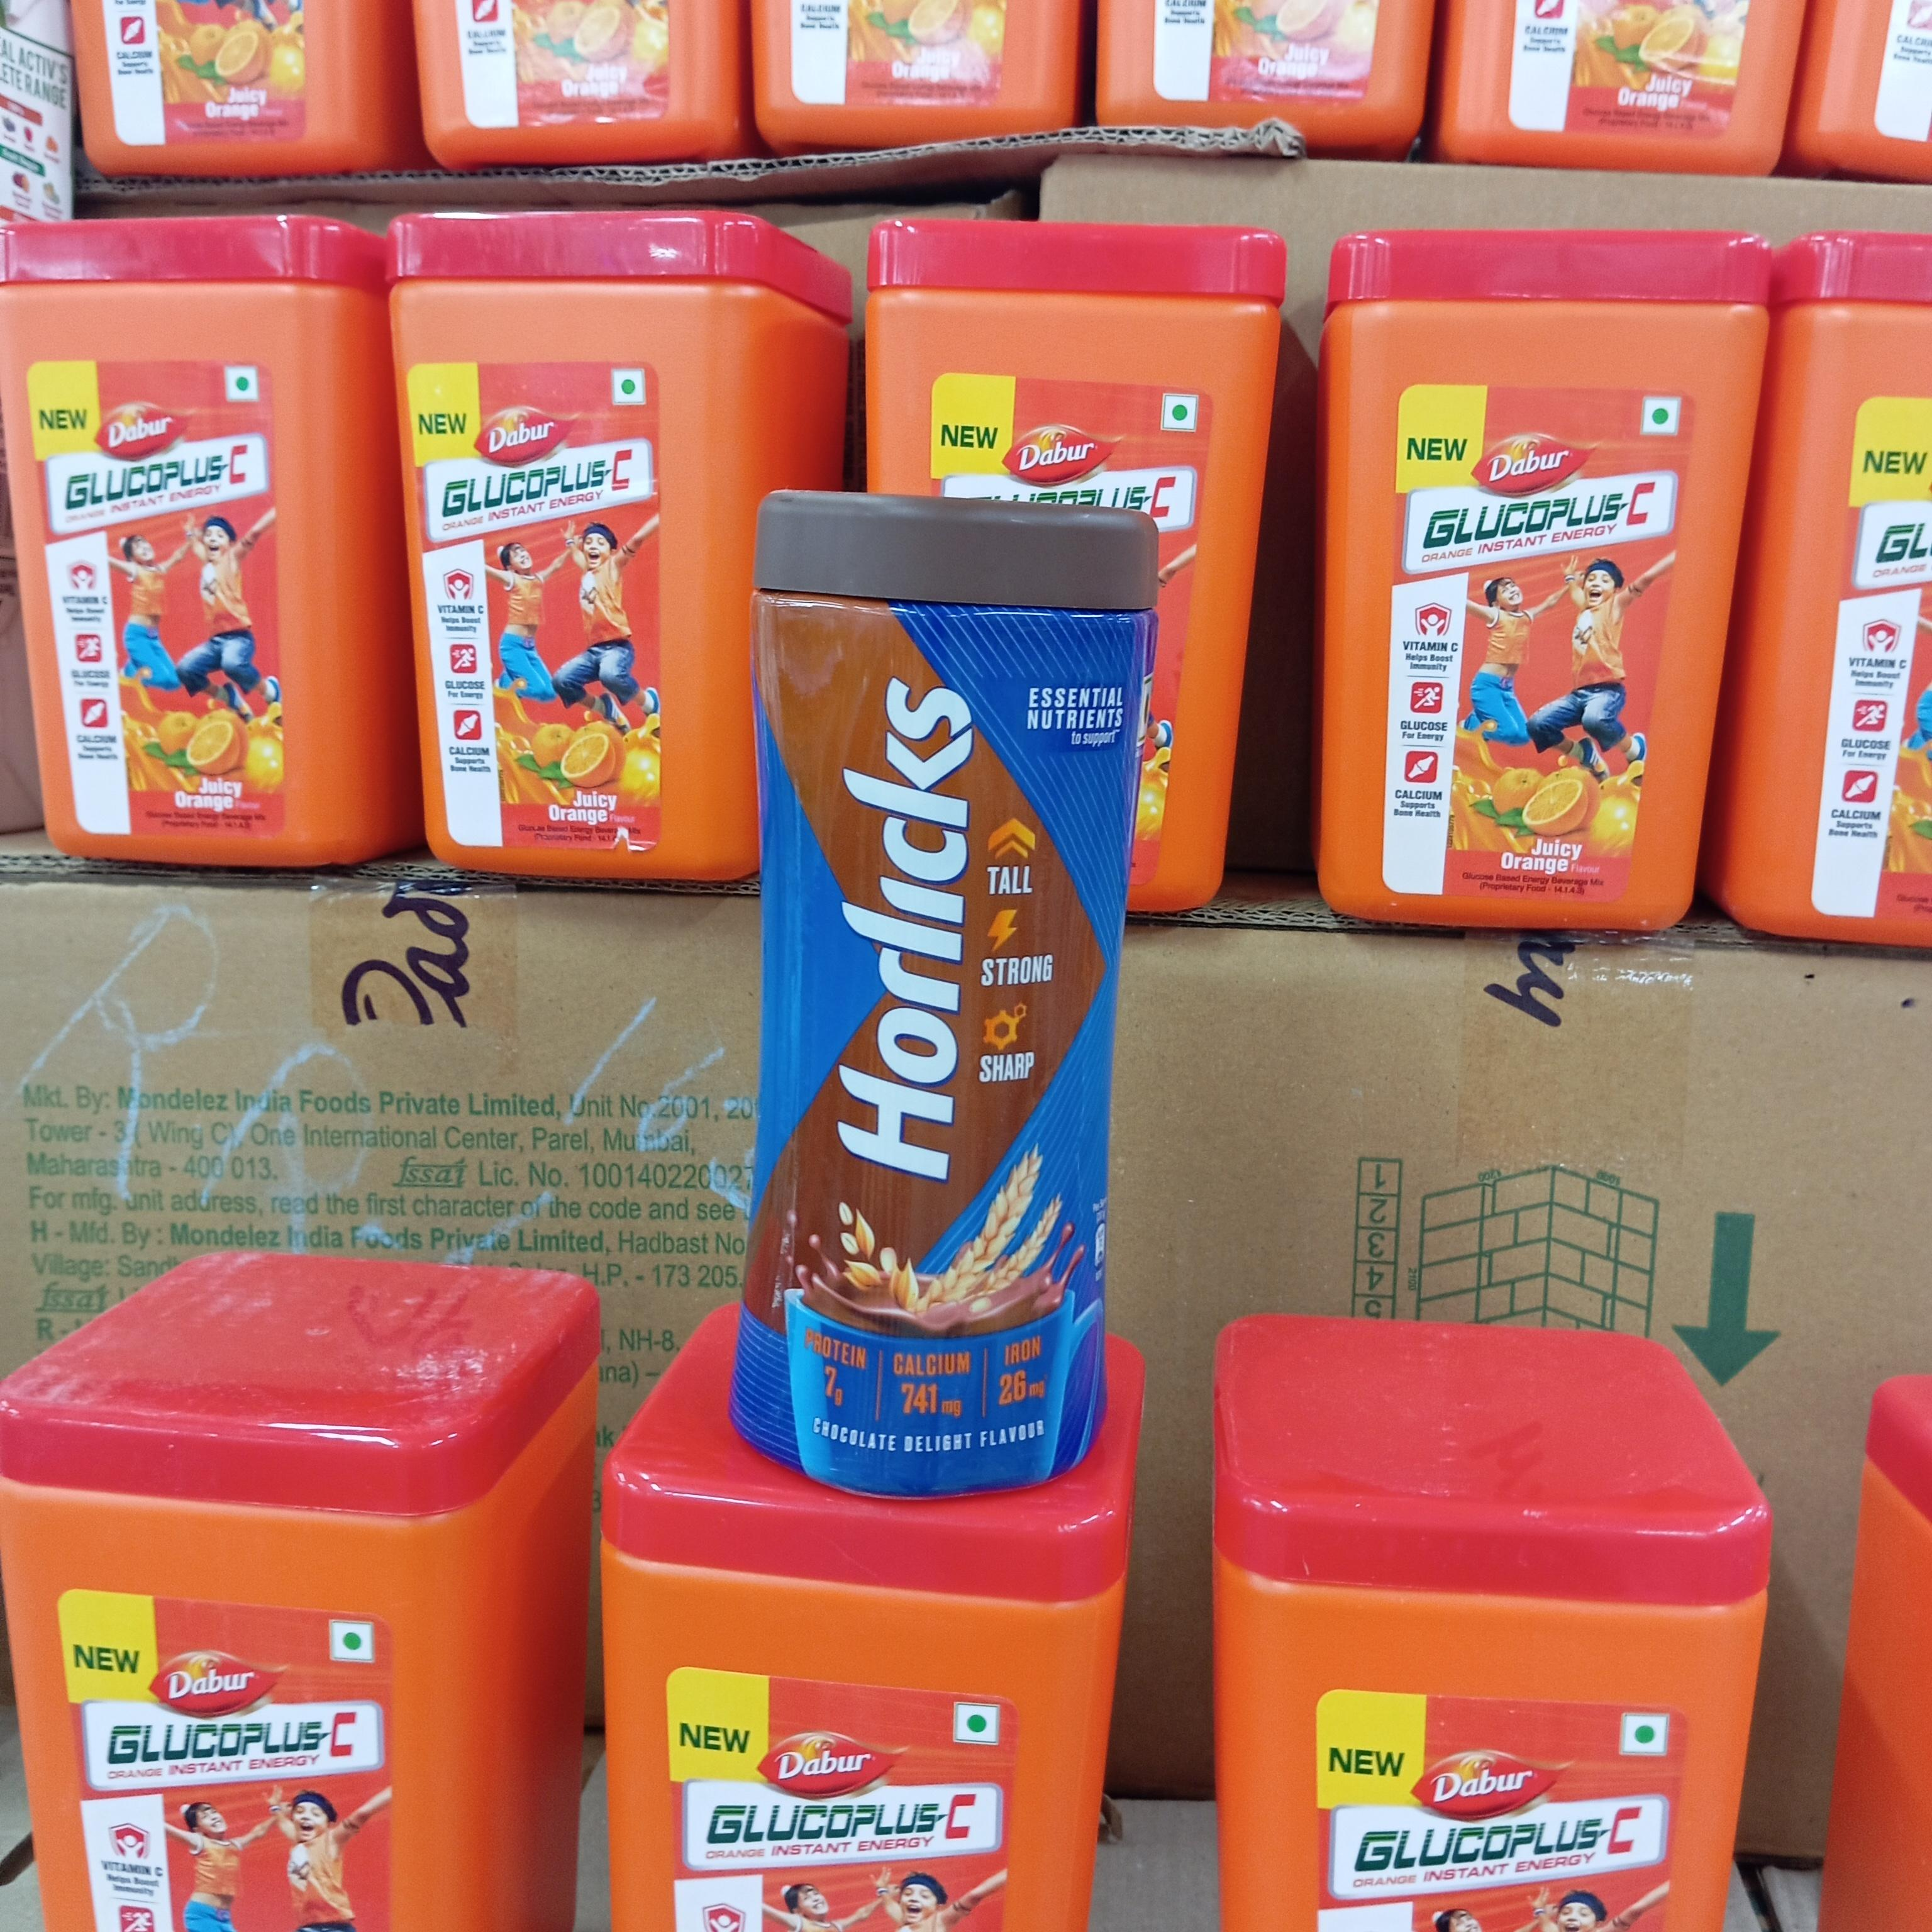HORLICK_CHOCOLATE_500_G_JAR: (747, 469, 1118, 1490)
